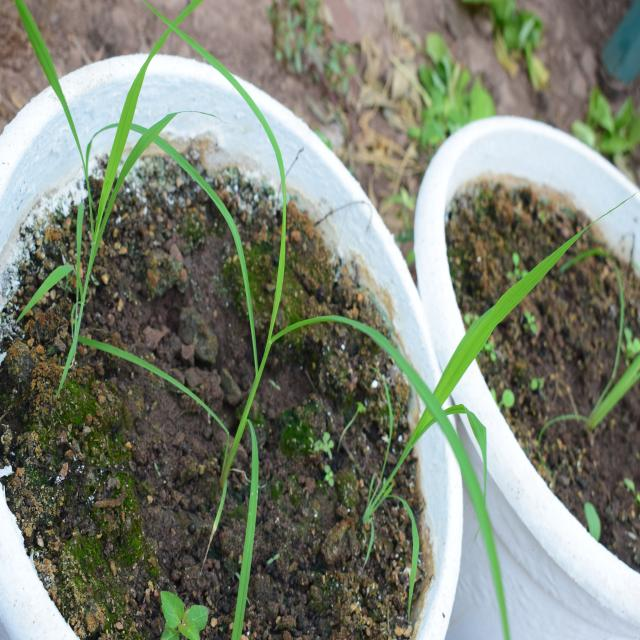barnyard_grass: (60, 72, 515, 567)
